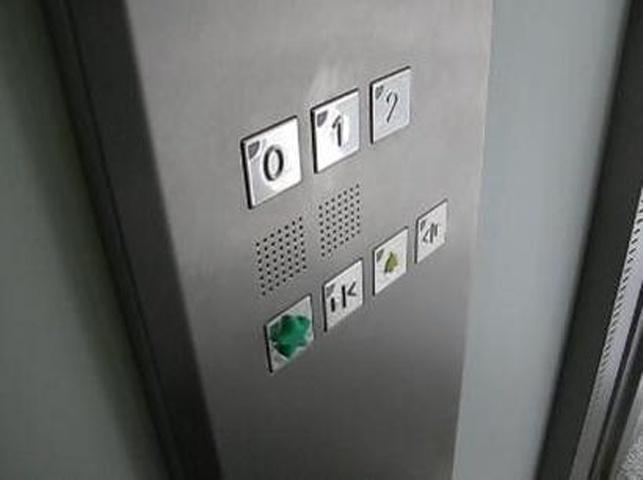0: (237, 113, 303, 208)
1: (310, 86, 360, 172)
2: (367, 61, 413, 146)
alarm: (372, 226, 406, 295)
close: (321, 257, 365, 331)
open: (415, 199, 447, 264)
unknown: (264, 294, 314, 372)
